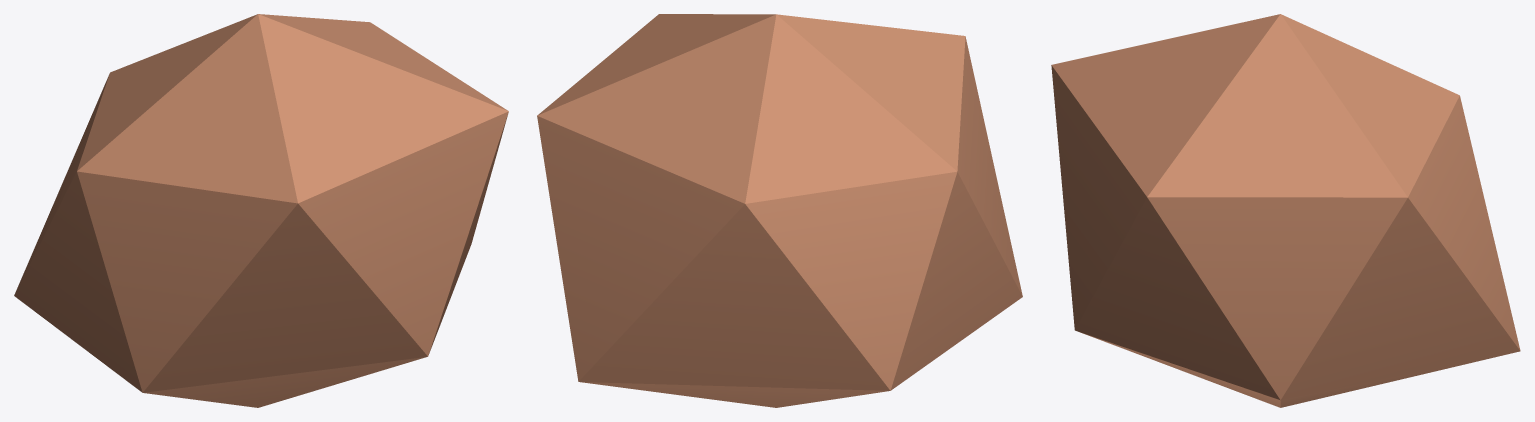
Rendered from DoomsdayDevice.fbx.
3 views of the same model, side by side, from view 1: azimuth 30°, elevation 25°; view 2: azimuth 150°, elevation 25°; view 3: azimuth 270°, elevation 25° (orthographic).
Visible parts, largest first — view 1: doomsday; view 2: doomsday; view 3: doomsday.
Part boxes in pixels (left/top/right/bottom): doomsday: left=14, top=14, right=508, bottom=407; doomsday: left=537, top=14, right=1022, bottom=407; doomsday: left=1051, top=14, right=1520, bottom=407.
Size of the model in its own units: 0.7178 by 0.6848 by 0.7392.
